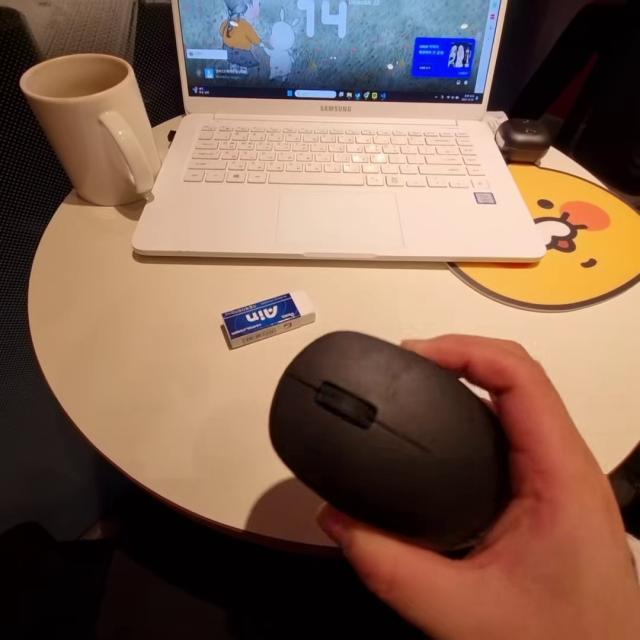eraser: (215, 284, 348, 354)
grab_mouse: (265, 319, 626, 640)
mouse: (271, 319, 529, 531)
